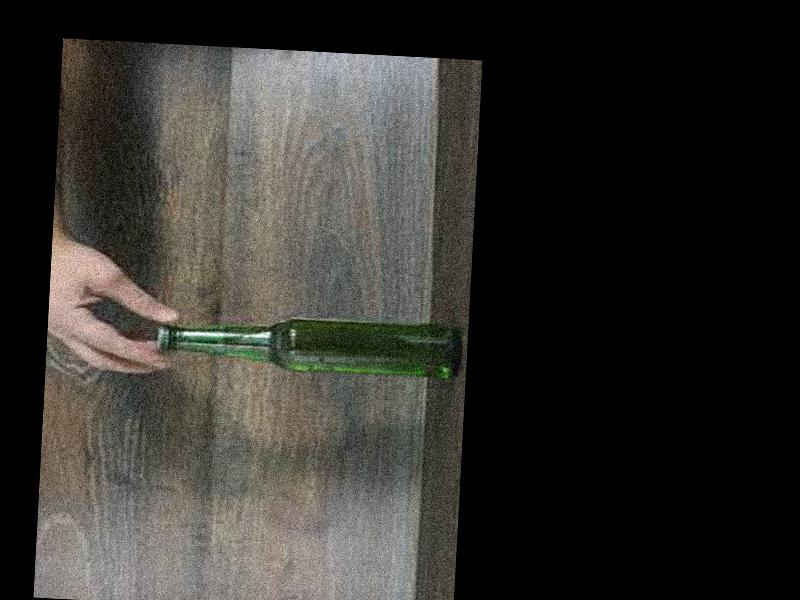Beer: (154, 308, 461, 378)
